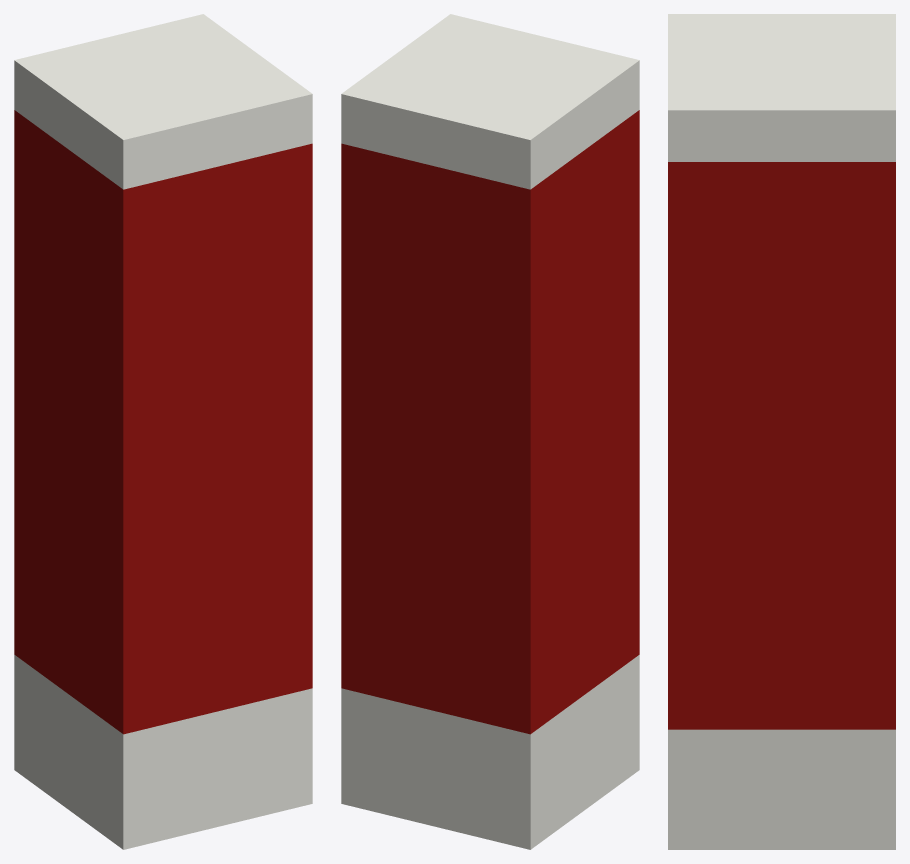
Rendered from MPS_Fascia_Corner.fbx.
3 views of the same model, side by side, from view 1: azimuth 30°, elevation 25°; view 2: azimuth 150°, elevation 25°; view 3: azimuth 270°, elevation 25° (orthographic). The views are drawn at different scales.
Parts seen in each view (by area): view 1: Body; view 2: Body; view 3: Body.
Boxes of the visible parts, x1,y1,x2,y2 form: Body: (14,14,312,849); Body: (341,14,639,849); Body: (668,14,895,849).
Size of the model in its own units: 0.12 by 0.43 by 0.12.
